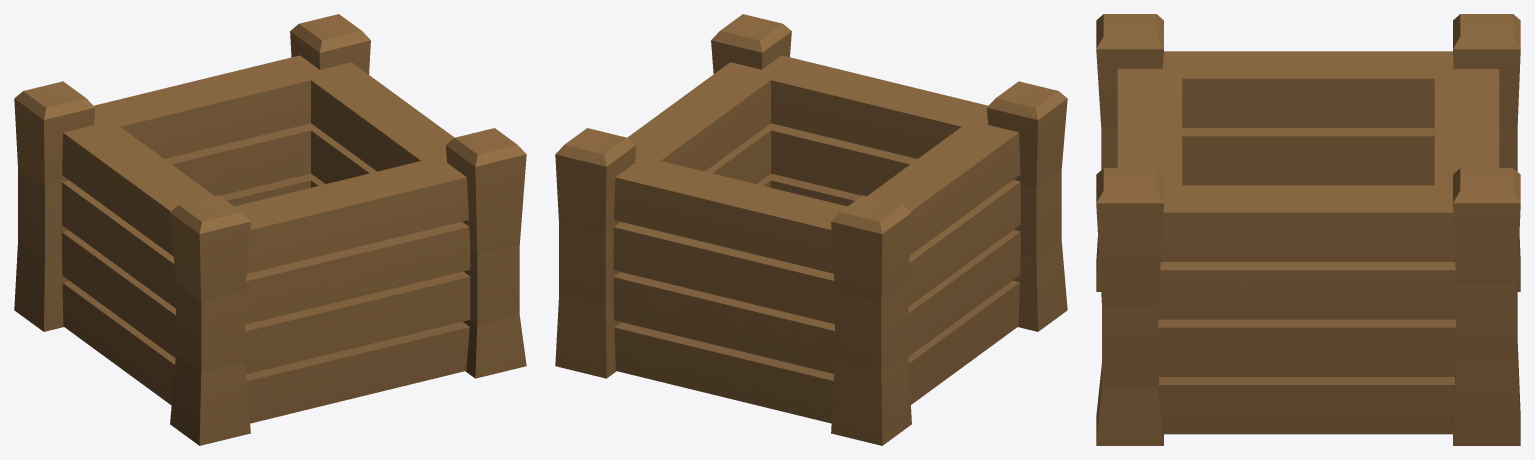
File: Composter.fbx
3 views of the same model, side by side, from view 1: azimuth 30°, elevation 25°; view 2: azimuth 150°, elevation 25°; view 3: azimuth 270°, elevation 25° (orthographic). The views are drawn at different scales.
Visible parts, largest first — view 1: Cube.010; view 2: Cube.010; view 3: Cube.010.
Part boxes in pixels (x1=…): Cube.010: x1=14, y1=14, x2=526, y2=445; Cube.010: x1=555, y1=14, x2=1067, y2=445; Cube.010: x1=1096, y1=14, x2=1520, y2=445.
Size of the model in its own units: 123 by 79.06 by 121.
